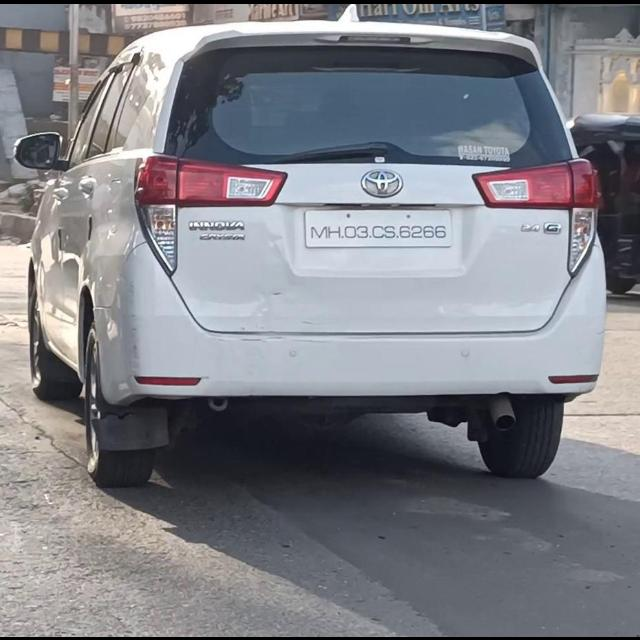vehicles: (8, 28, 602, 476)
